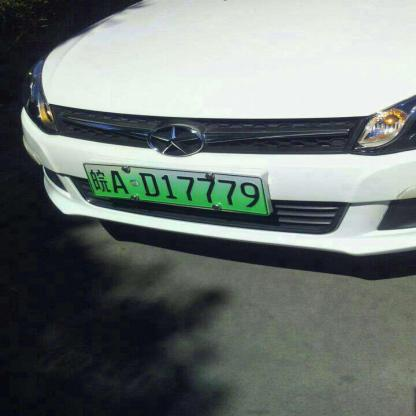lp: (88, 164, 270, 212)
